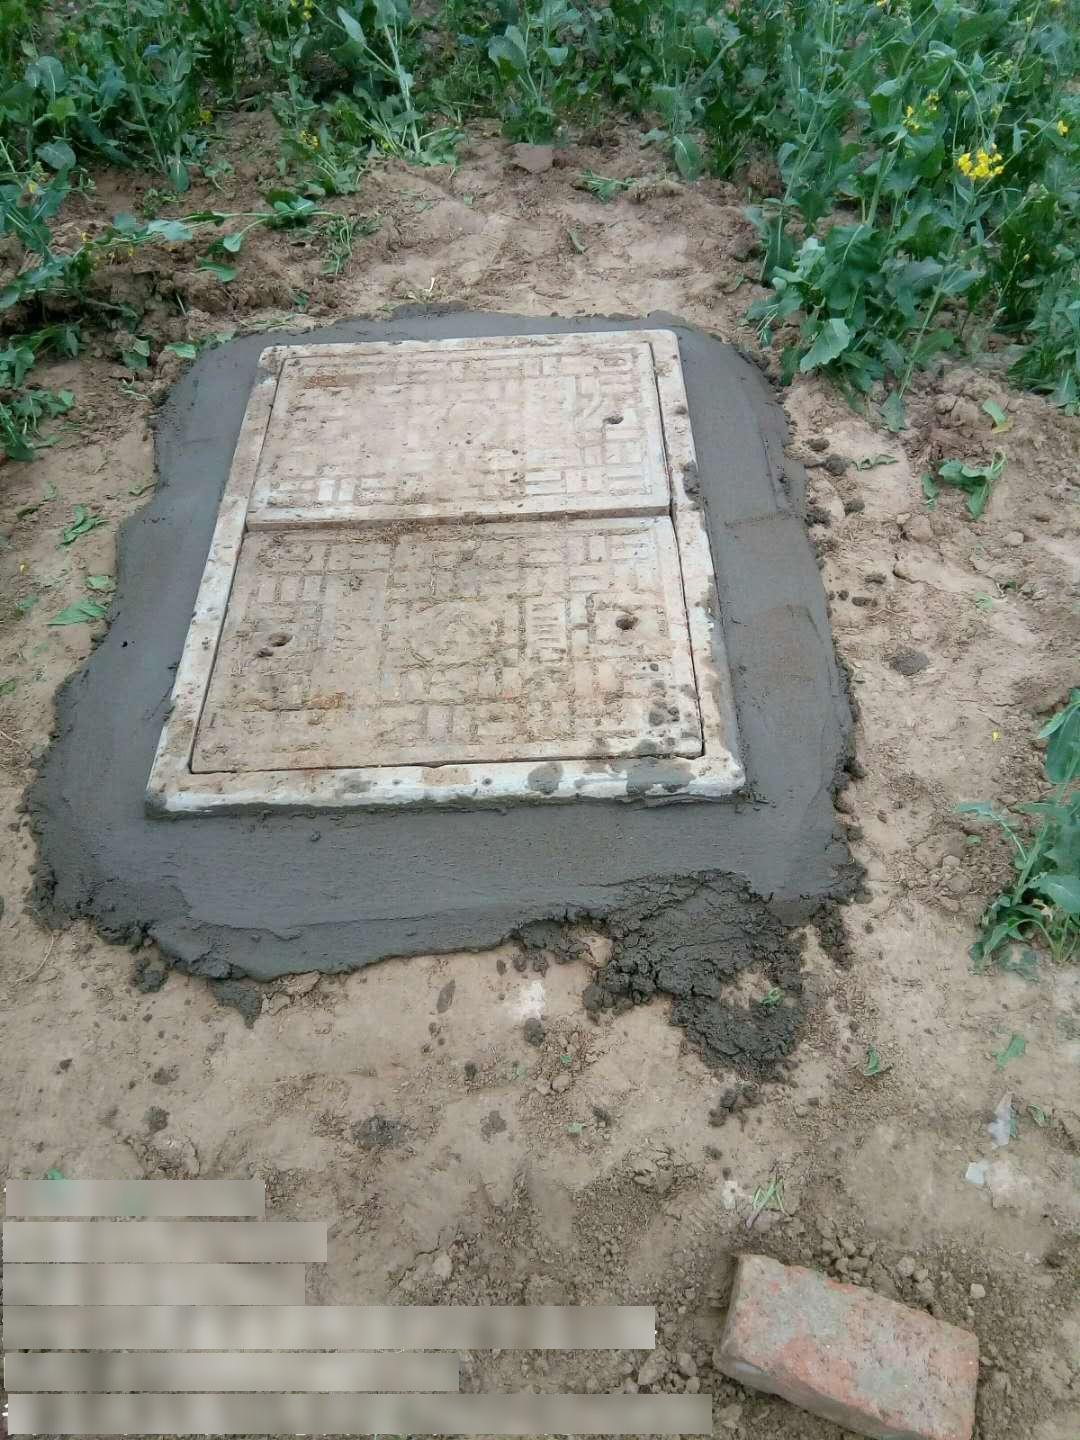wellcover: (141, 331, 776, 824)
